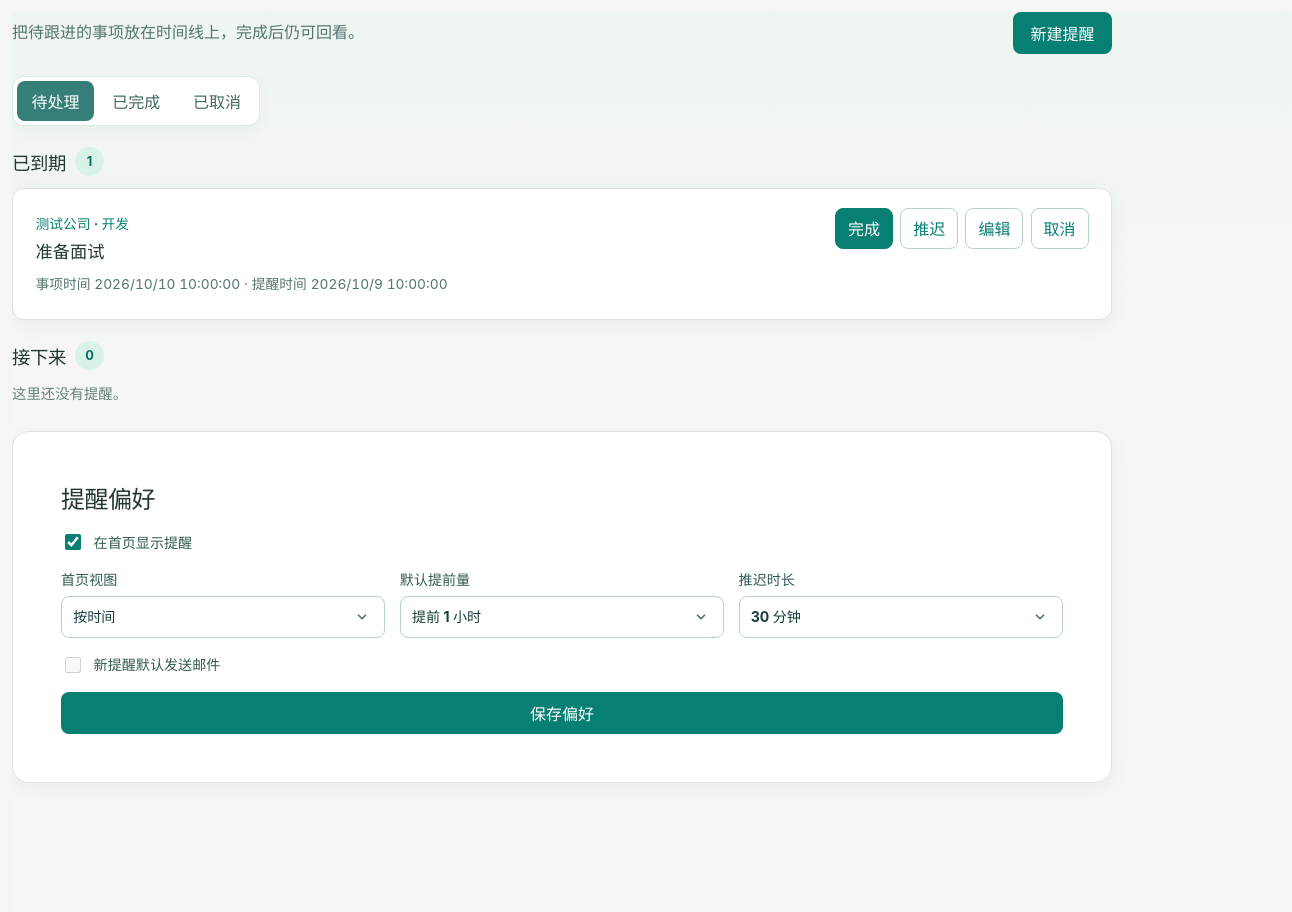
shows a persisted reminder and completes it with a CSRF token and version
Check: the heading "准备面试" is shown, box 35,241 -> 104,262
Click the button "完成": (864,228) 835,208 -> 893,249
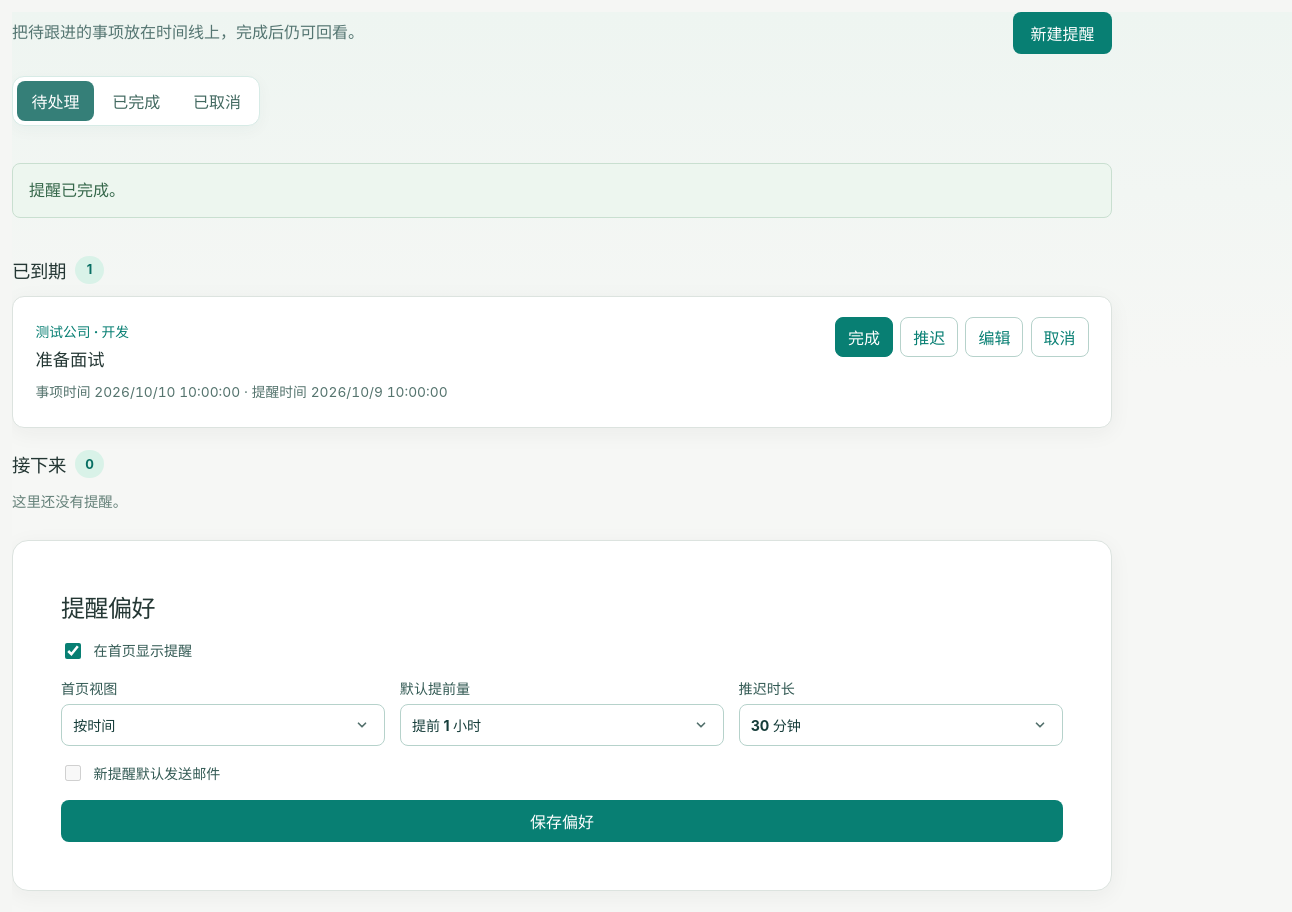
Check: the text "提醒已完成。" is shown, box 12,163 -> 1112,218
